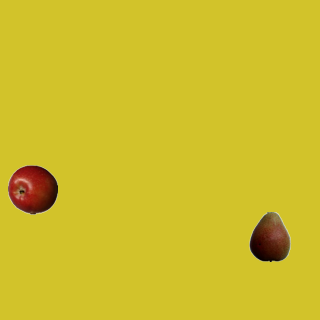Apple Braeburn: (7, 164, 57, 214)
Pear Forelle: (244, 211, 294, 261)
